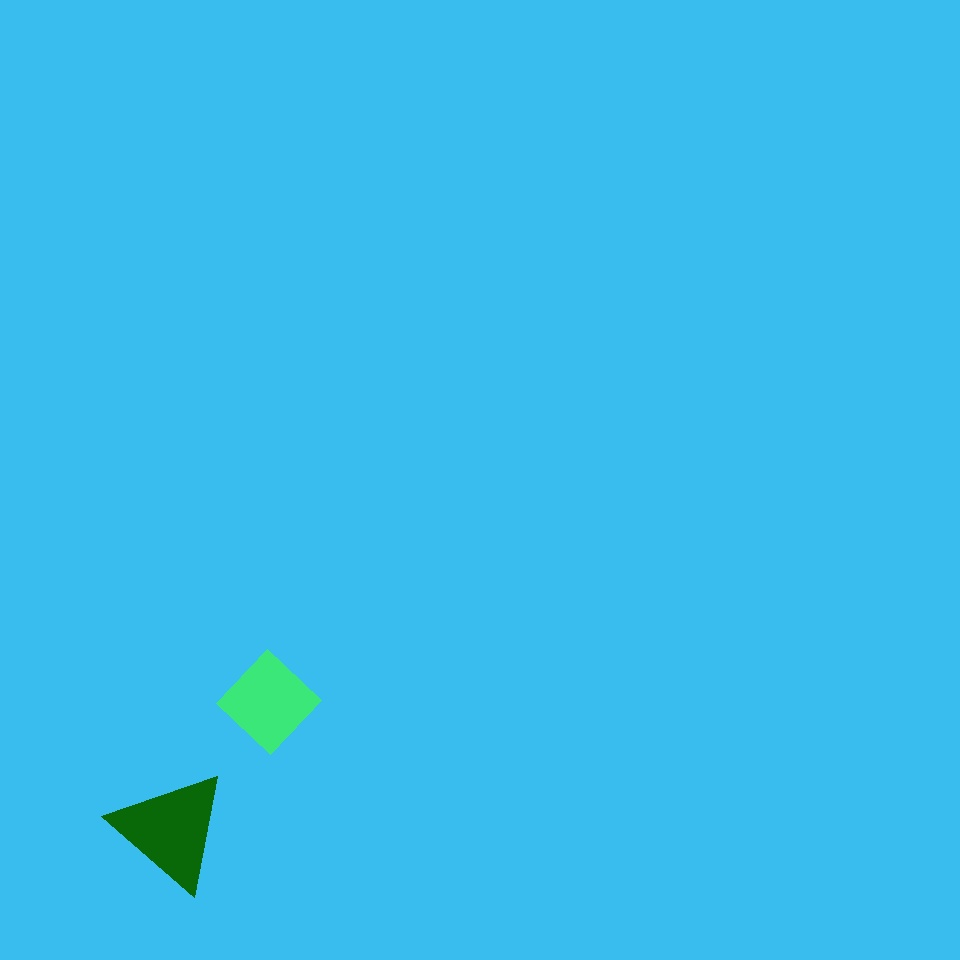circle: (628, 84, 797, 274), (113, 770, 229, 890), (684, 582, 783, 670)
square: (216, 650, 322, 754), (408, 387, 498, 477), (688, 176, 771, 258)
triangle: (546, 729, 694, 876)
